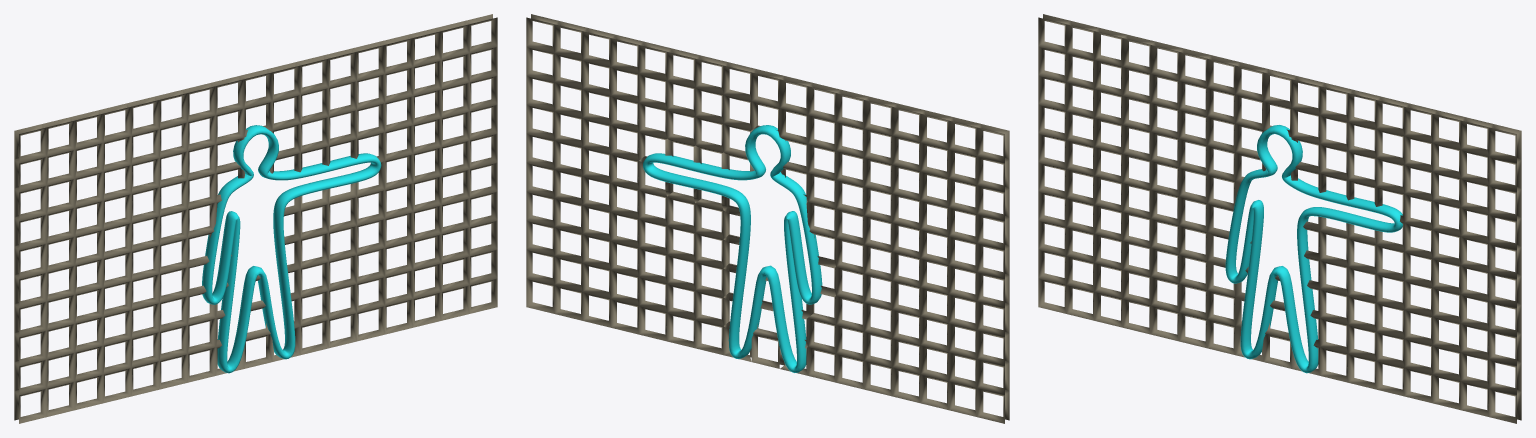
Rendered from [poo]_St2_Grid_13.fbx.
3 renders of one model, left to right at view 1: azimuth 30°, elevation 25°; view 2: azimuth 150°, elevation 25°; view 3: azimuth 330°, elevation 25°, orthographic.
Parts seen in each view (by area): view 1: Grid_13; view 2: Grid_13; view 3: Grid_13.
Part boxes in pixels (box(x1,y1,x2,y2)): Grid_13: box(14, 14, 497, 423); Grid_13: box(526, 14, 1009, 423); Grid_13: box(1038, 14, 1521, 423).
Size of the model in its own units: 1604 by 931 by 45.72.
